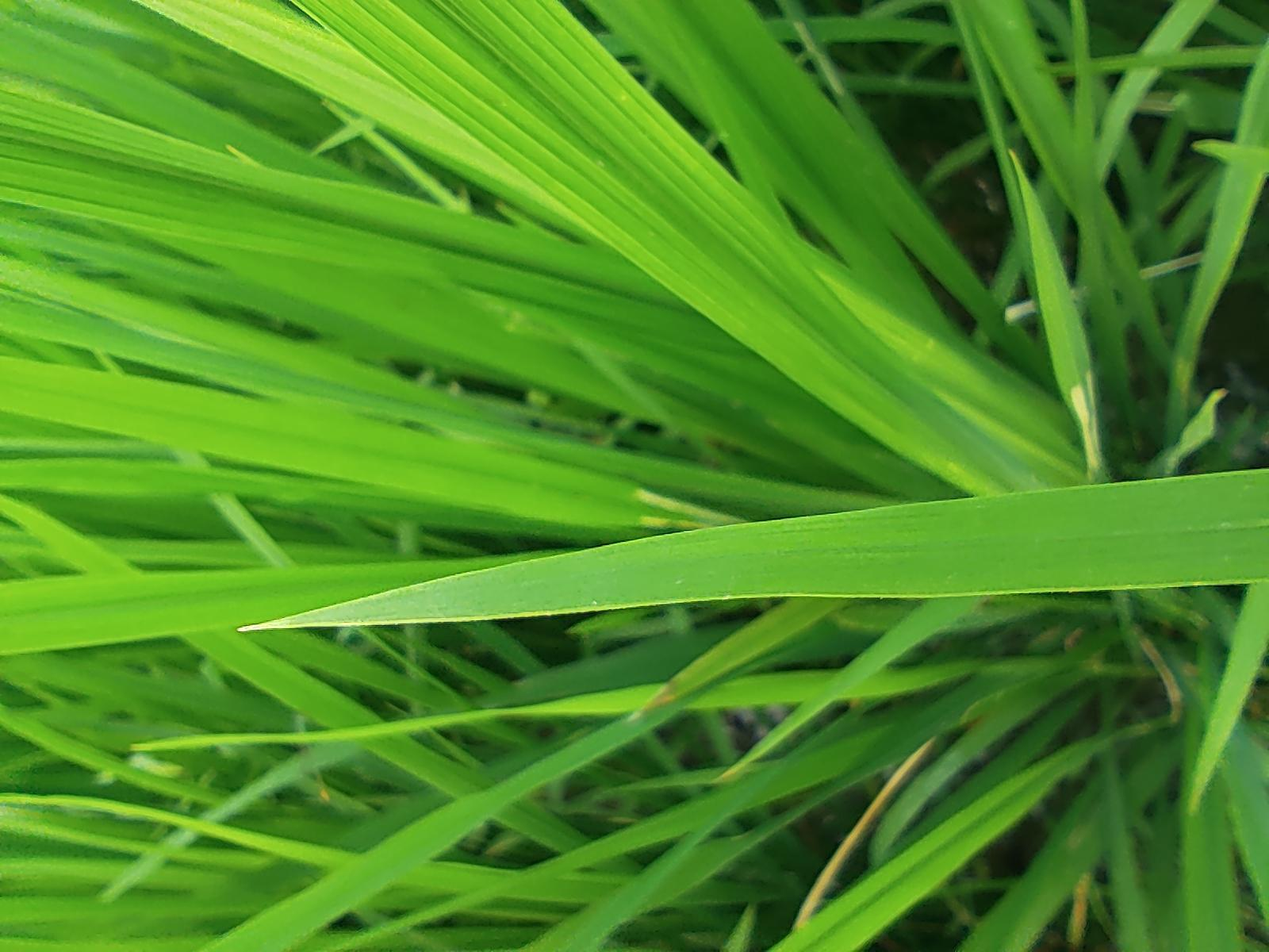Healthy: (428, 179, 644, 951)
